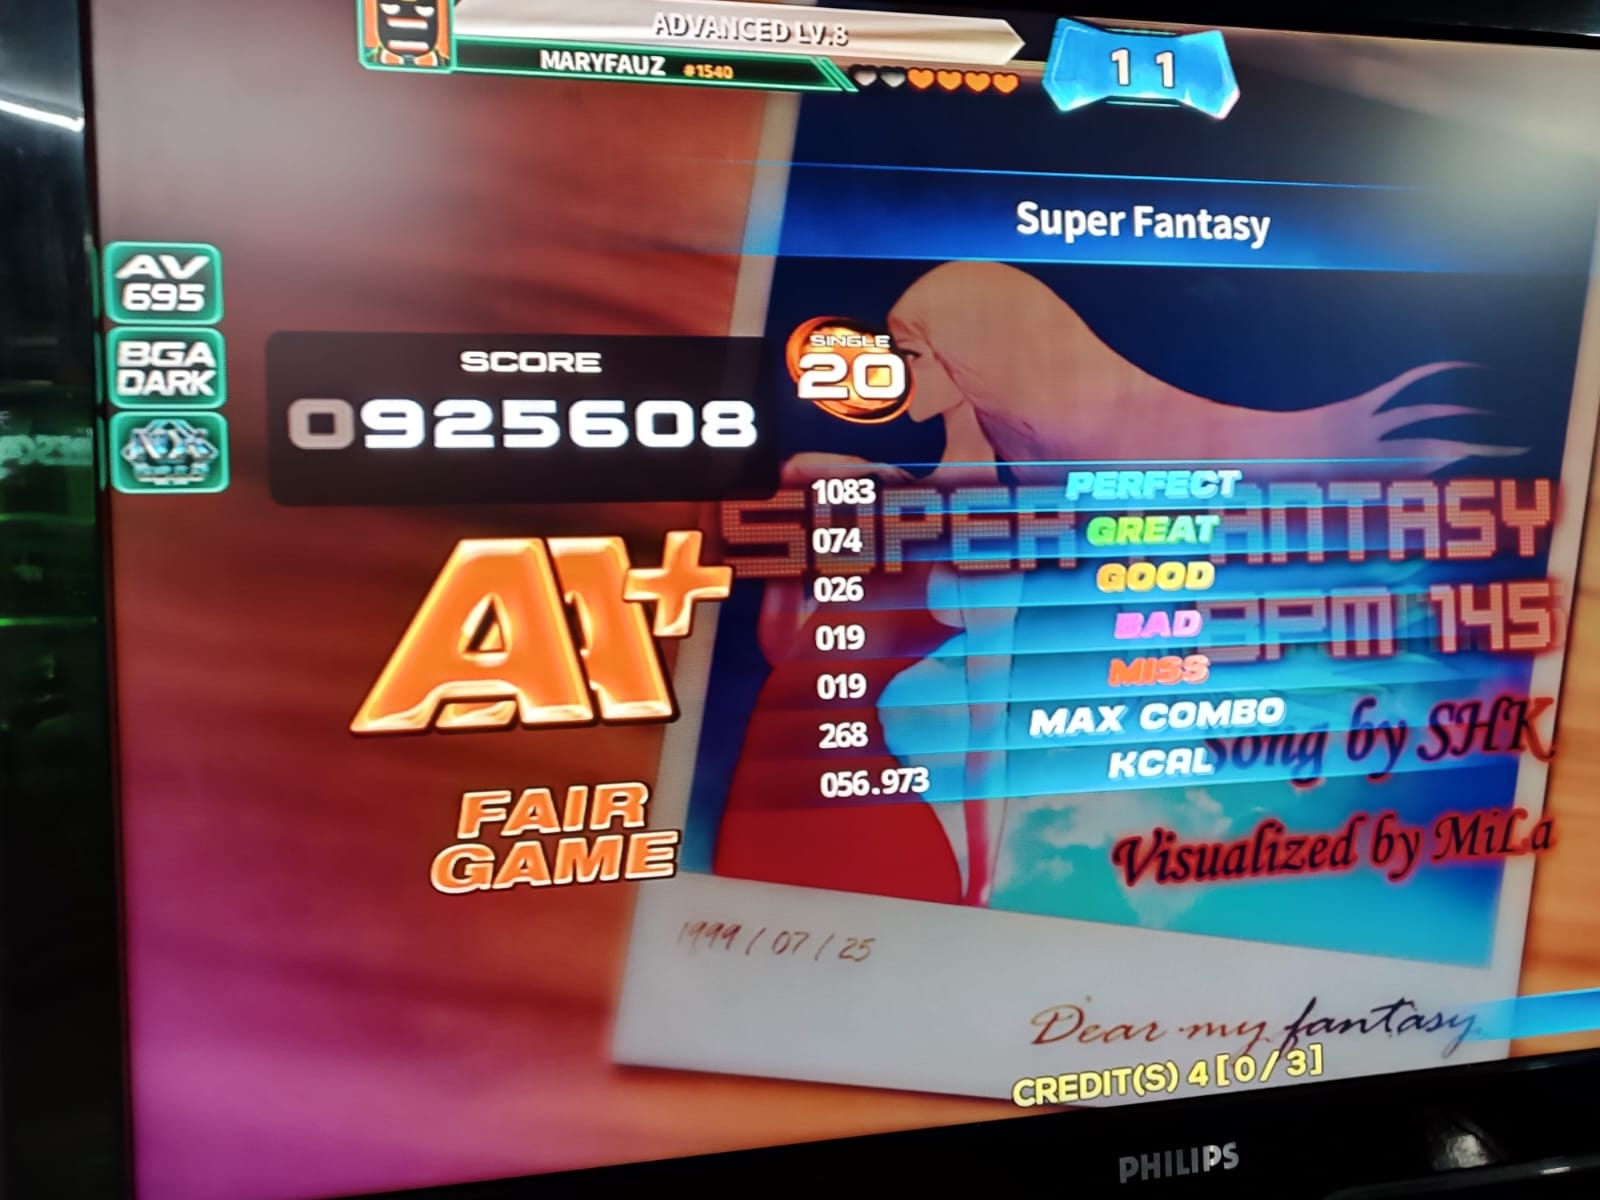difficulty: (772, 318, 975, 442)
fullscore: (34, 0, 1566, 1179)
rank: (340, 524, 737, 737)
score: (280, 349, 765, 489)
song_name: (750, 171, 1600, 282)
